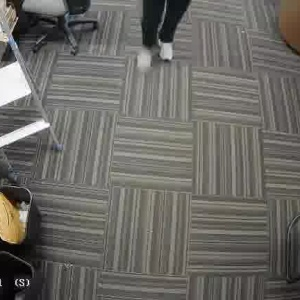person: (125, 0, 195, 75)
